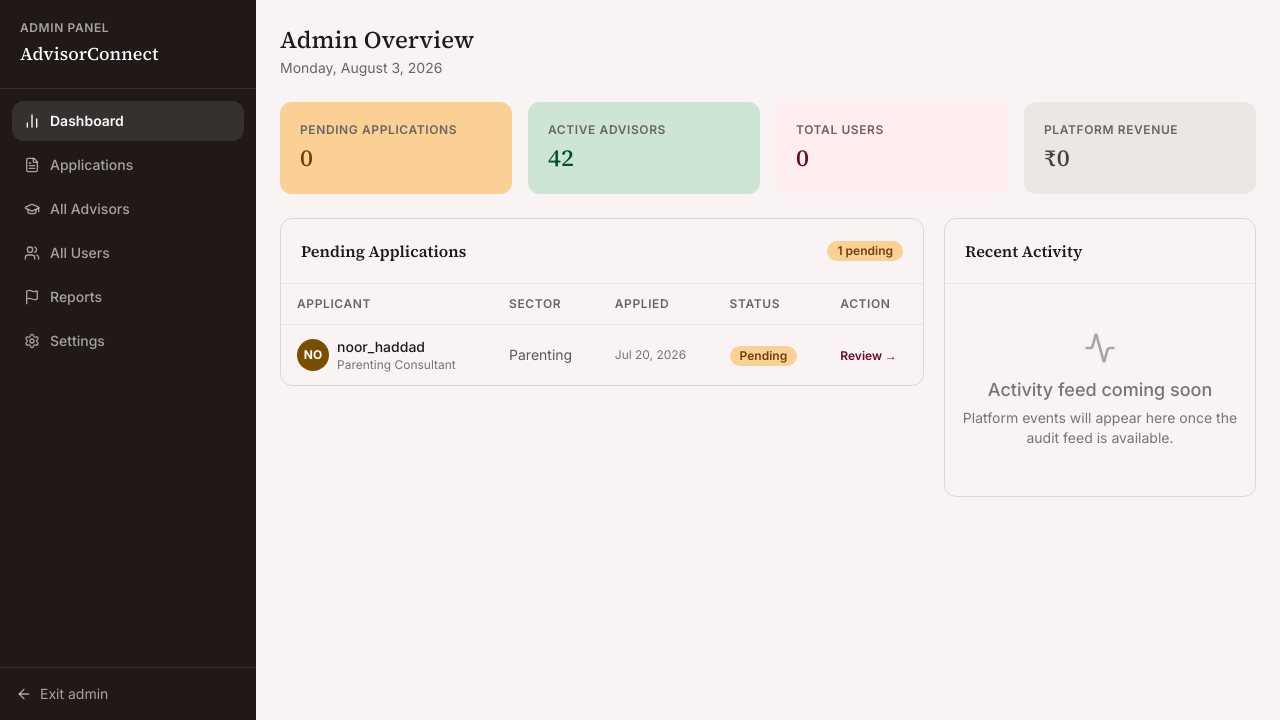
Scenario: AdminDashboardPage › applications table › filters server-side — the status goes on the request, not through a client array
Step 1. Click the button "Applications" → click(128, 165), box [12,145,244,185]
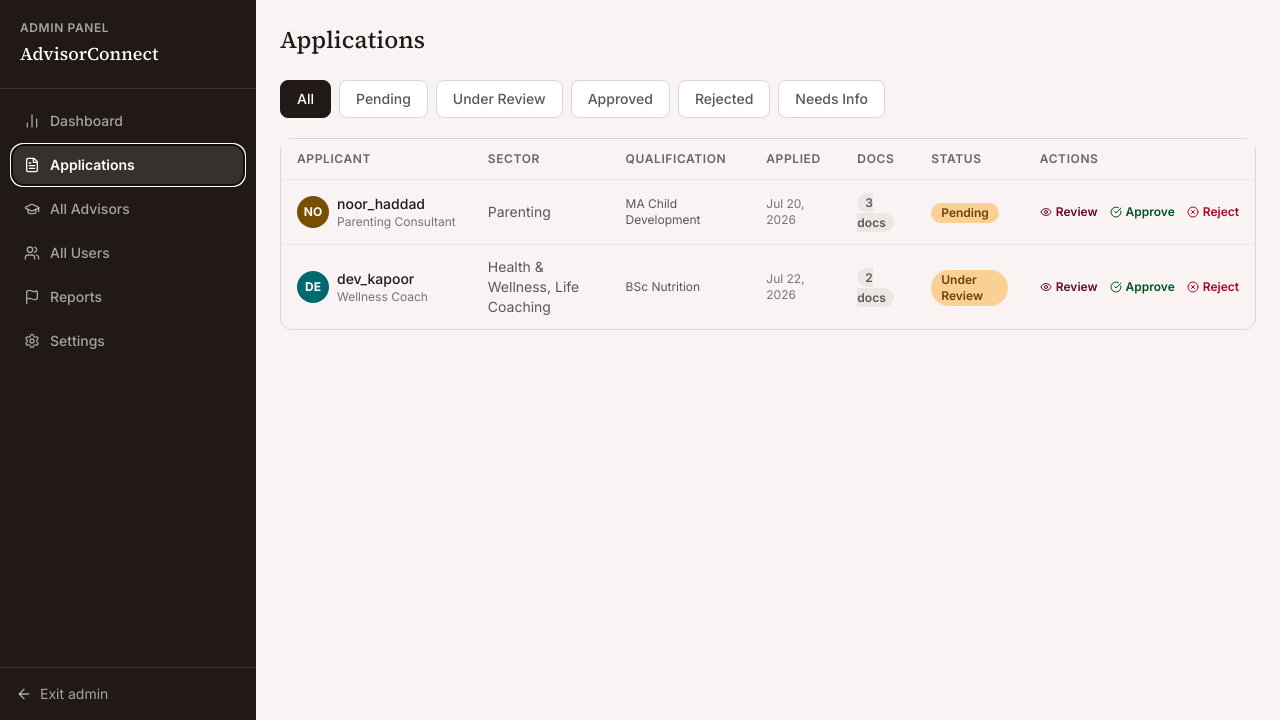
Step 2. Click the button "Under Review" → click(499, 99), box [436,80,563,118]
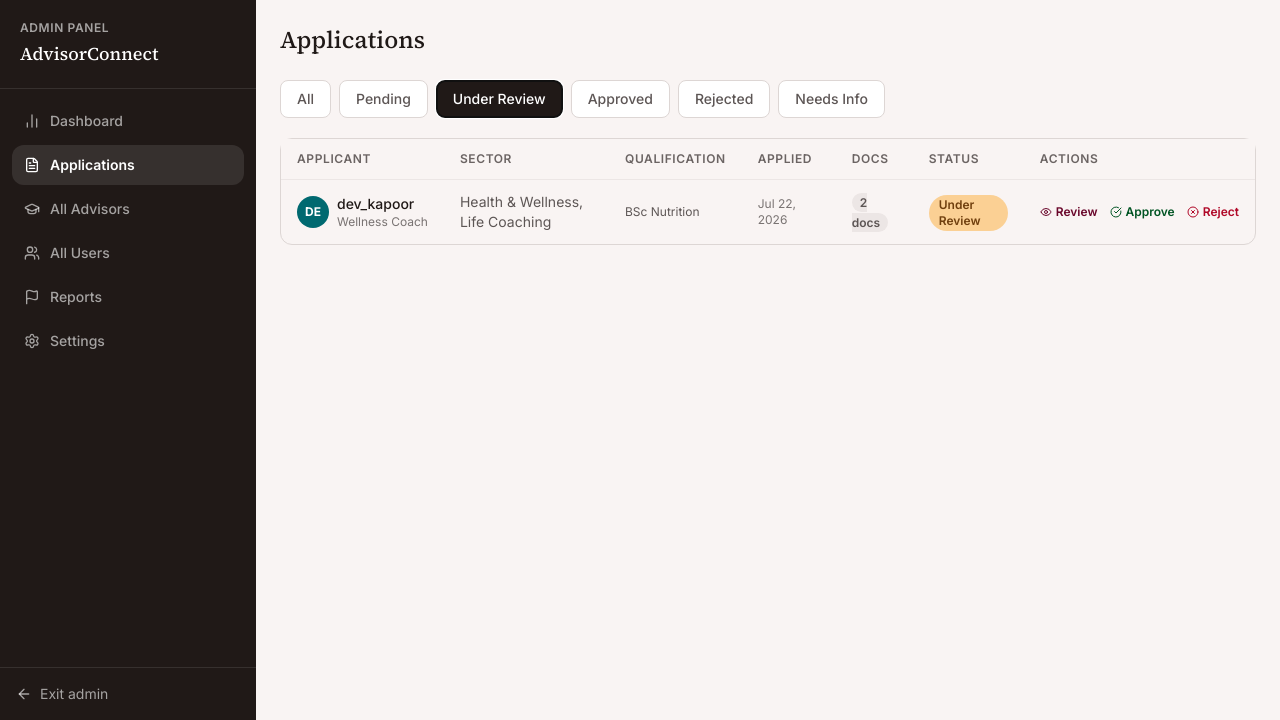
Now the text "dev_kapoor" is shown, box [337,194,428,214]
Now the text "noor_haddad" is gone
